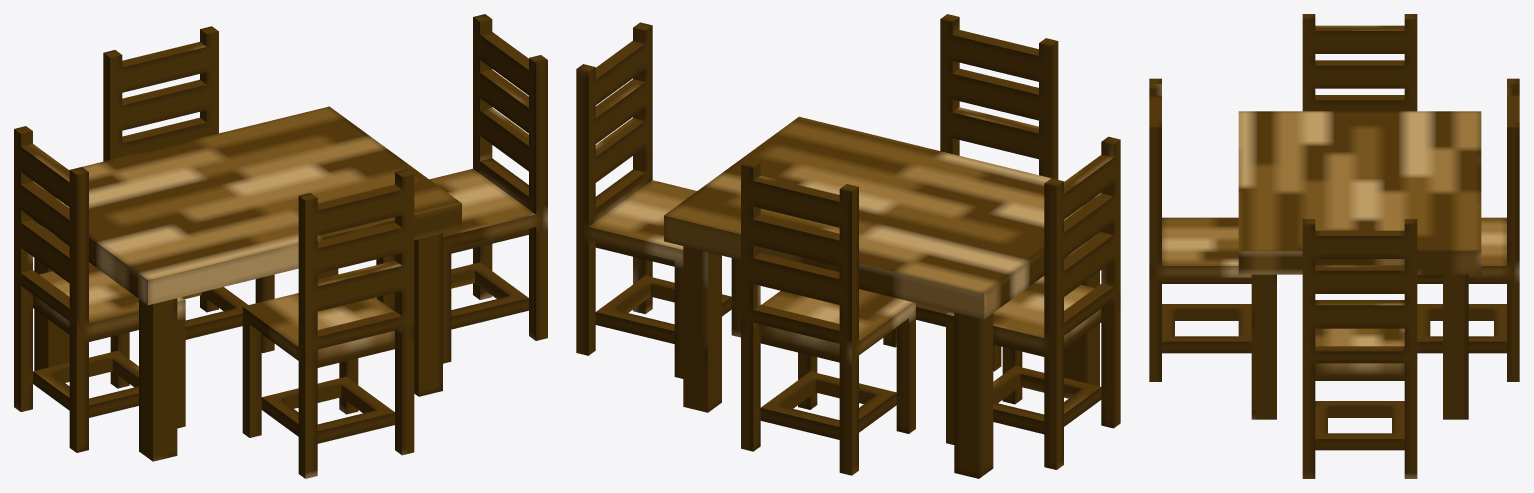
The model's file is Mesa e cadeiras.fbx.
The picture shows the model from 3 angles, left to right: view 1: azimuth 30°, elevation 25°; view 2: azimuth 150°, elevation 25°; view 3: azimuth 270°, elevation 25°; orthographic projection. The views are drawn at different scales.
Visible parts, largest first — view 1: Mesa De Jantar; view 2: Mesa De Jantar; view 3: Mesa De Jantar.
Boxes of the visible parts, x1,y1,x2,y2 form: Mesa De Jantar: (14, 14, 547, 478); Mesa De Jantar: (576, 14, 1120, 478); Mesa De Jantar: (1149, 14, 1519, 478).
Bounding box in the file's own units: 390 × 220 × 290.
